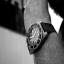watch: (25, 21, 48, 50)
